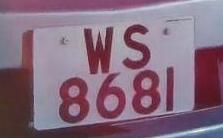1: (160, 64, 184, 116)
6: (90, 71, 131, 124)
8: (51, 74, 95, 127), (127, 67, 165, 119)
S: (117, 18, 156, 76)
W: (77, 21, 119, 79)
